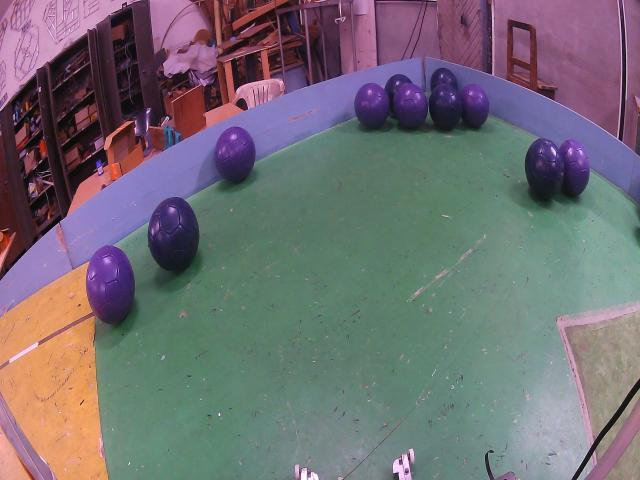jambhalya: (86, 245, 135, 323), (215, 127, 255, 183), (559, 140, 590, 197), (392, 83, 428, 128), (355, 83, 390, 128), (460, 83, 490, 128)
kaalyya: (148, 197, 200, 270), (525, 138, 564, 200), (429, 83, 462, 130), (385, 73, 412, 112), (430, 67, 458, 92)
